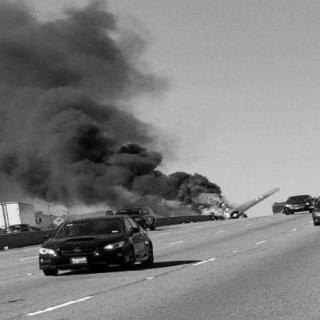Smoke: (43, 161, 166, 197)
